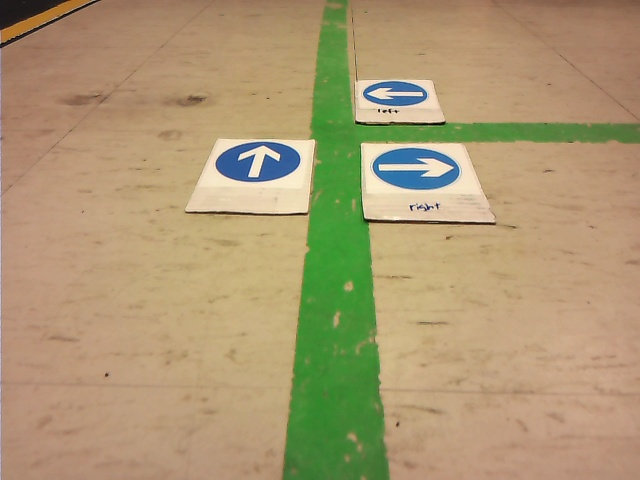GO FORWARD: (216, 142, 300, 181)
TURN LEFT: (364, 81, 427, 104)
TURN RIGHT: (371, 147, 462, 189)
